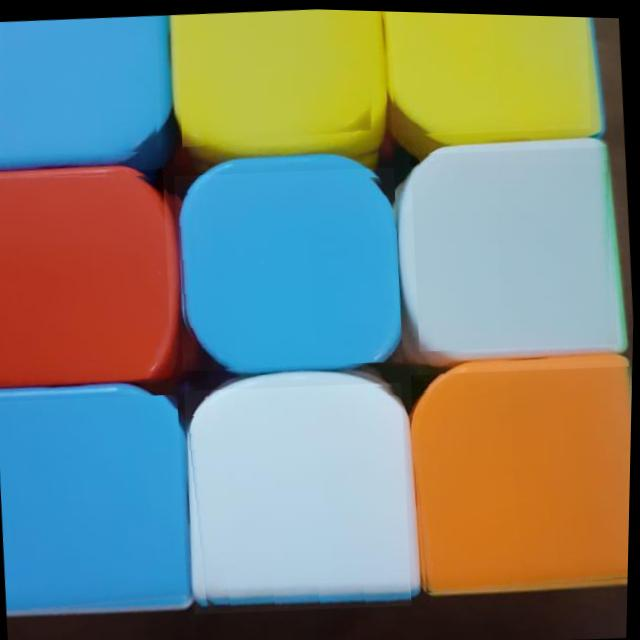Blue: (171, 160, 408, 376), (0, 389, 193, 616), (0, 10, 165, 161)
Orange: (409, 357, 634, 595)
Red: (0, 163, 177, 388)
White: (182, 375, 418, 618), (408, 138, 622, 353)
Yellow: (174, 4, 383, 150), (383, 9, 593, 138)
